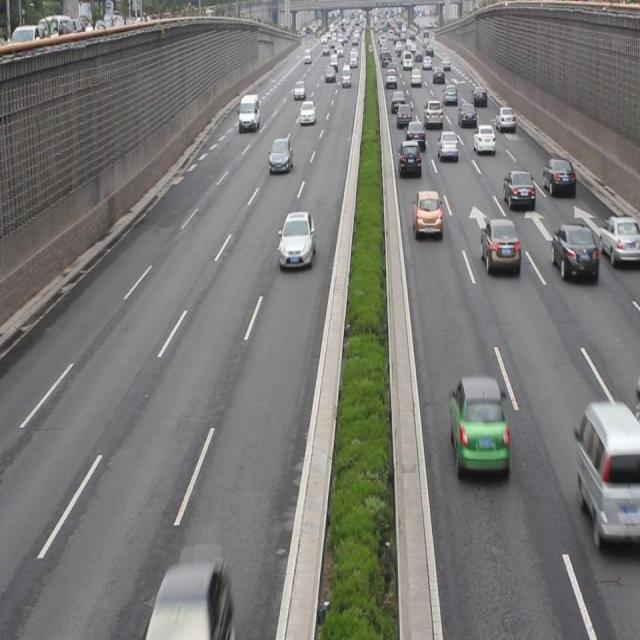car: (150, 556, 230, 632), (451, 377, 508, 483), (550, 225, 596, 279), (478, 218, 518, 273), (277, 213, 315, 267), (598, 216, 640, 262), (540, 156, 573, 197), (411, 191, 440, 236), (502, 170, 533, 208), (268, 137, 292, 172), (397, 139, 419, 175), (471, 122, 495, 154), (405, 118, 425, 150), (438, 130, 458, 158), (495, 104, 514, 133)
truck: (574, 401, 640, 547)
